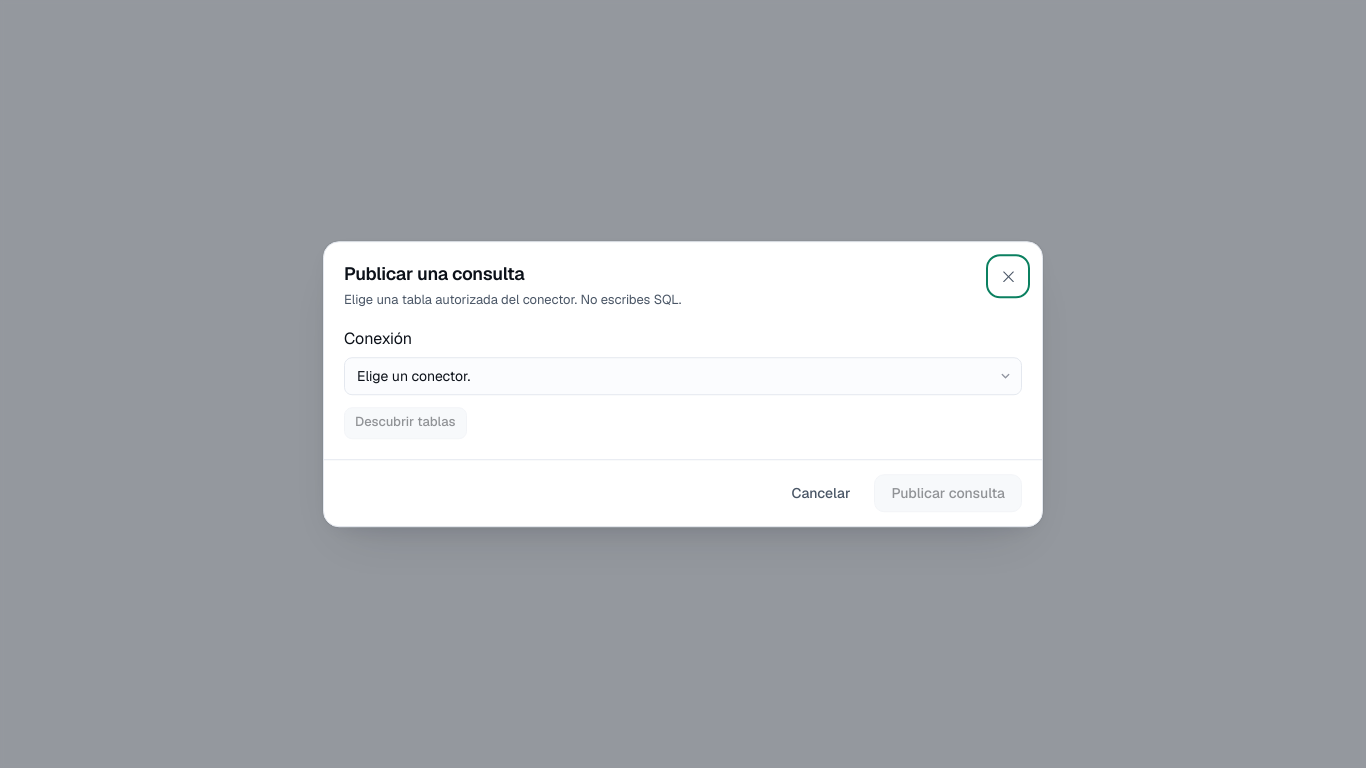
PublishQueryModal › no preselecciona columnas al elegir una tabla
Click the dropdown: click(683, 376) [344,357,1022,395]
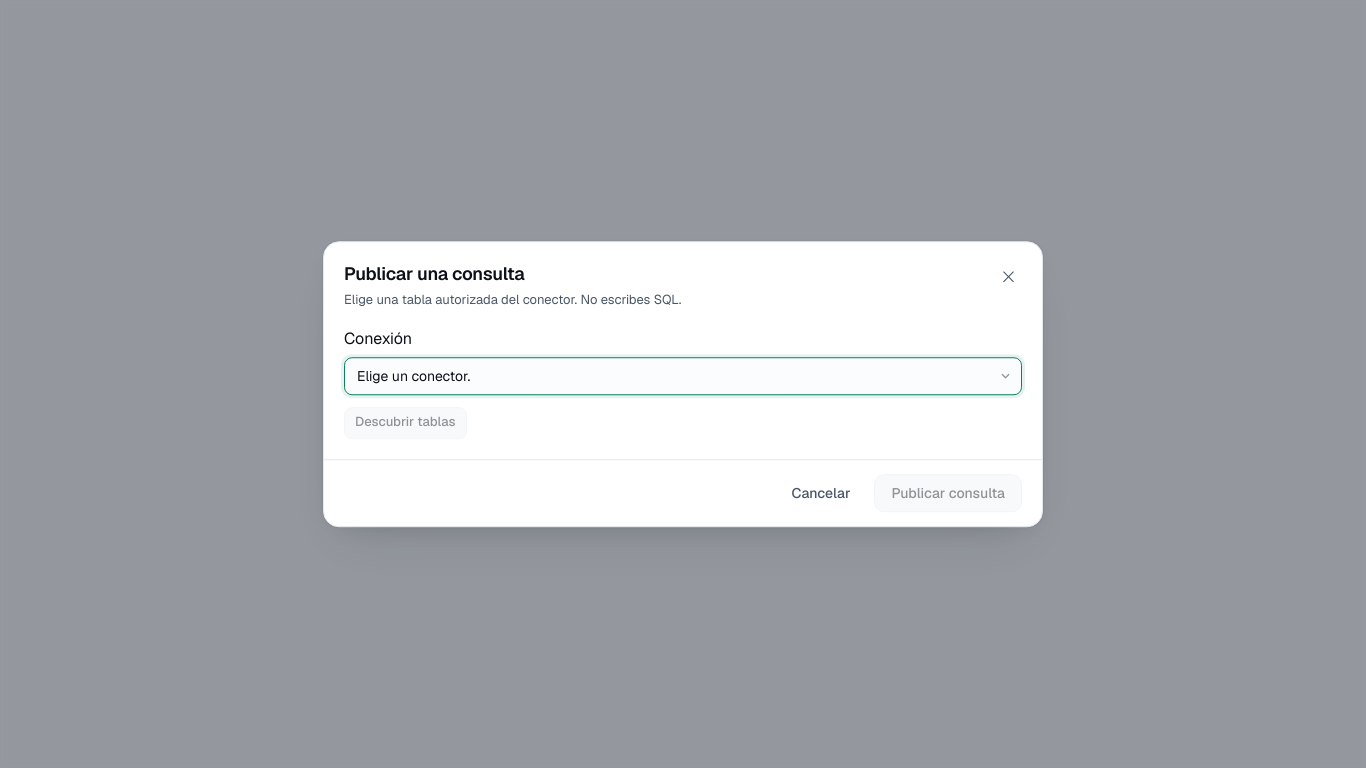
Select "ERP" in the dropdown: (683, 376) [344,357,1022,395]
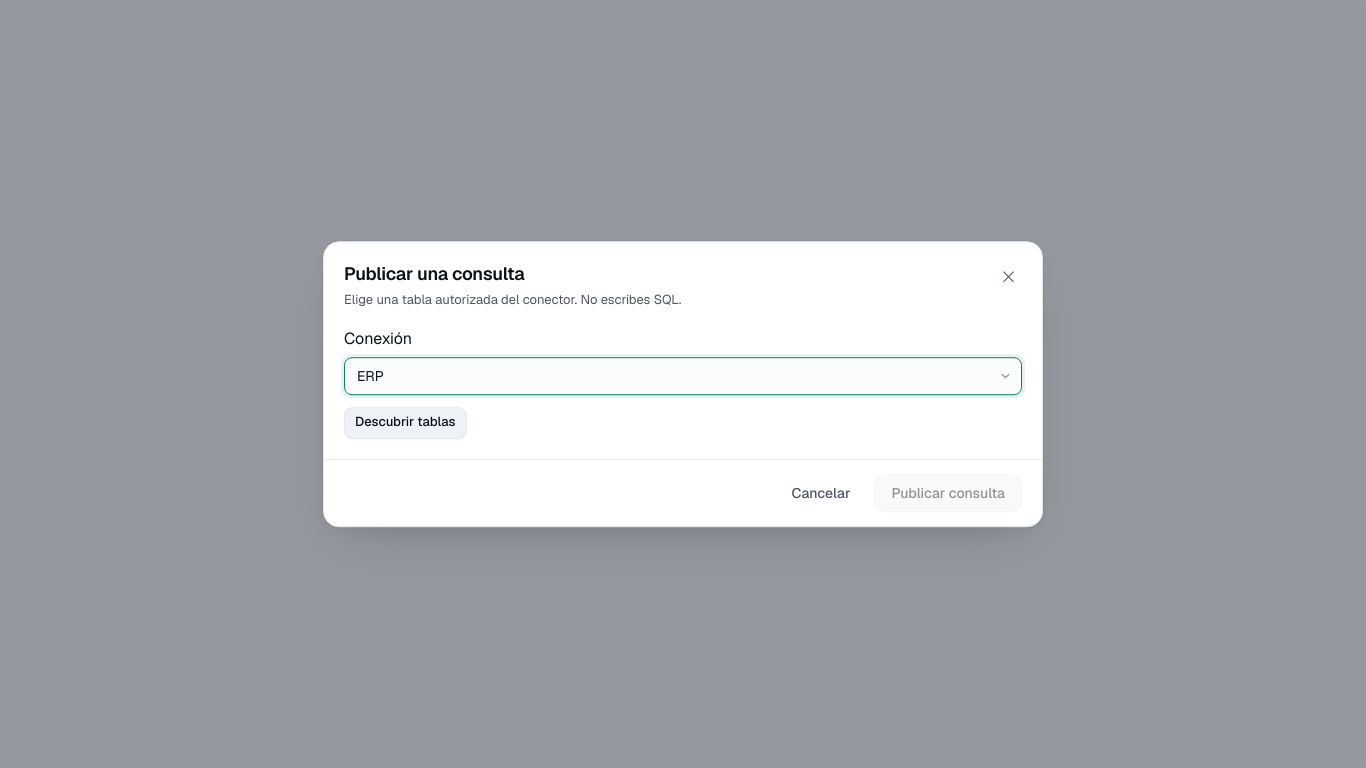
Click the button "Descubrir tablas": click(405, 423) [344,407,466,439]
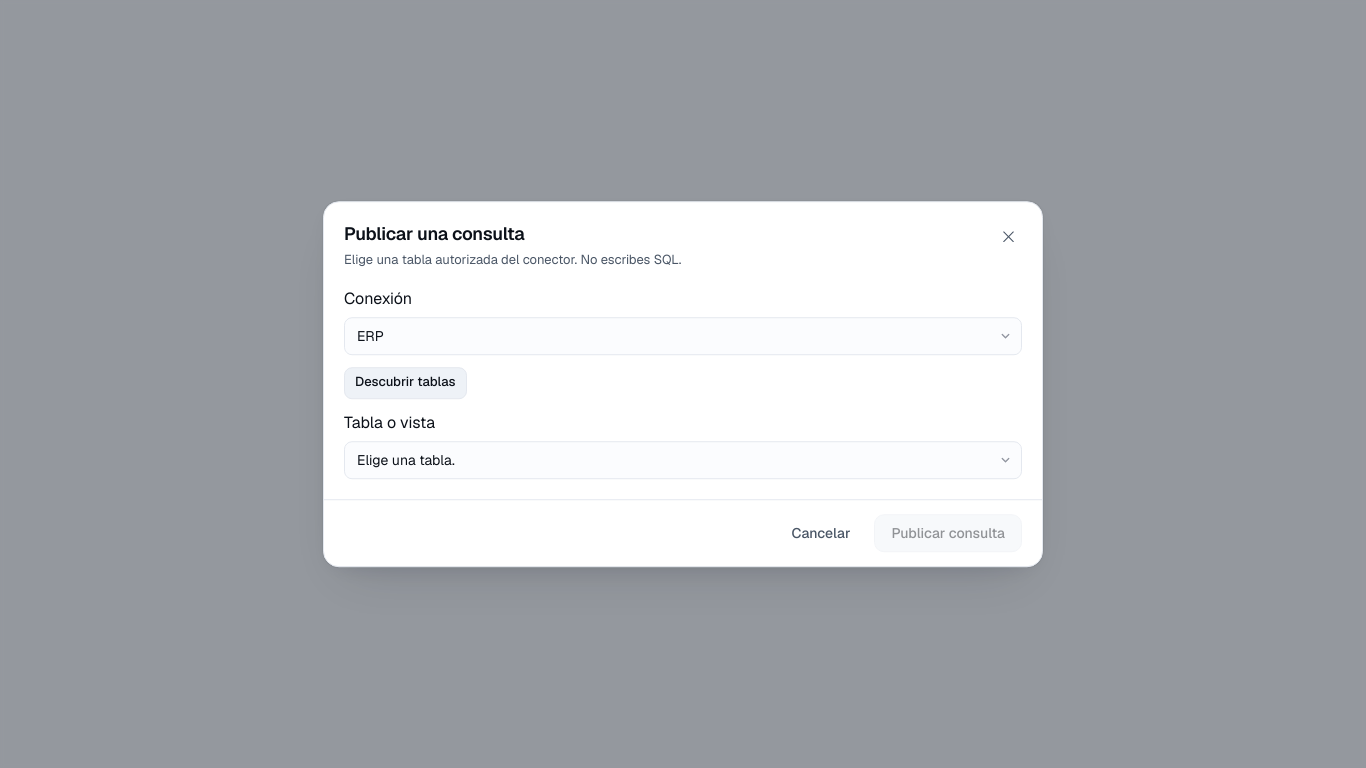
Select "catalog.product_prices" in the dropdown labelled "Tabla o vista": (683, 460) [344,441,1022,479]
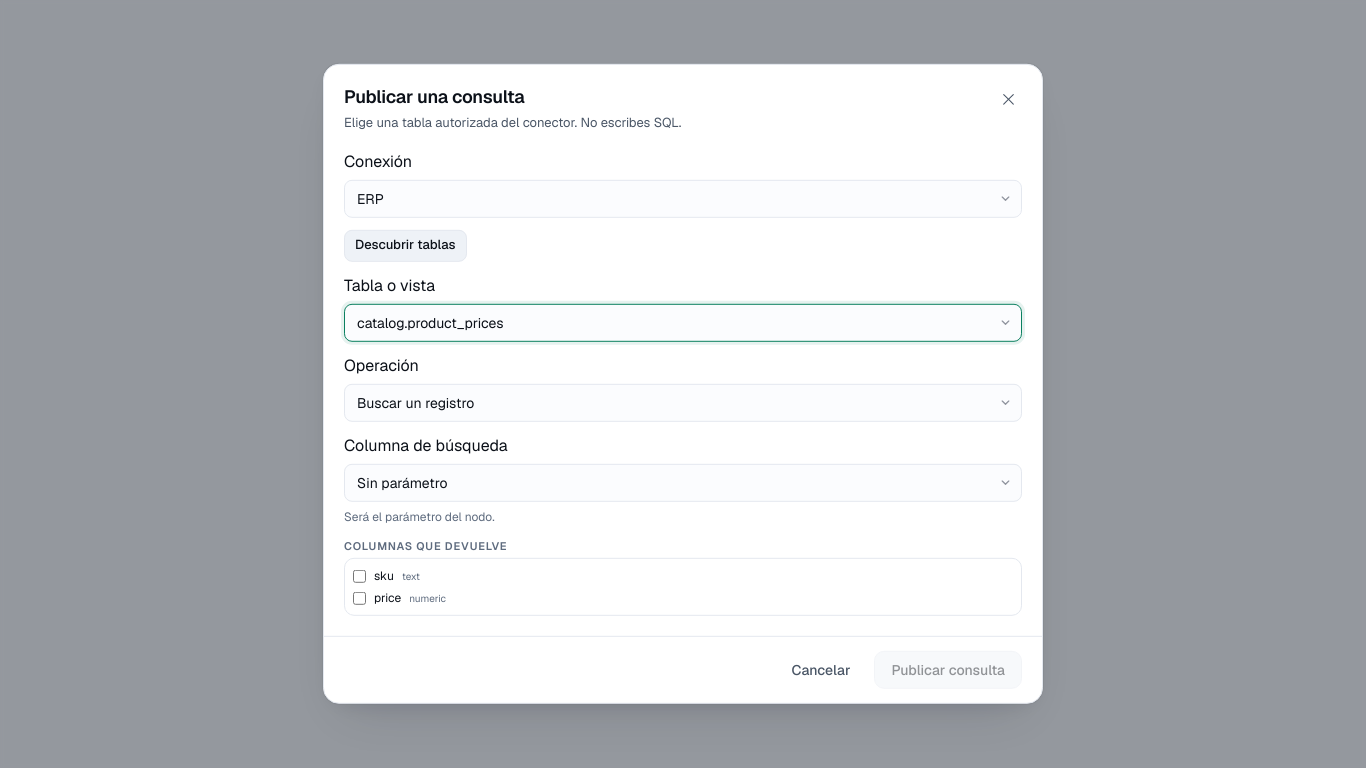
Result: the text "sku" is shown at [374,568,394,584]
Result: the text "price" is shown at [374,590,401,606]
